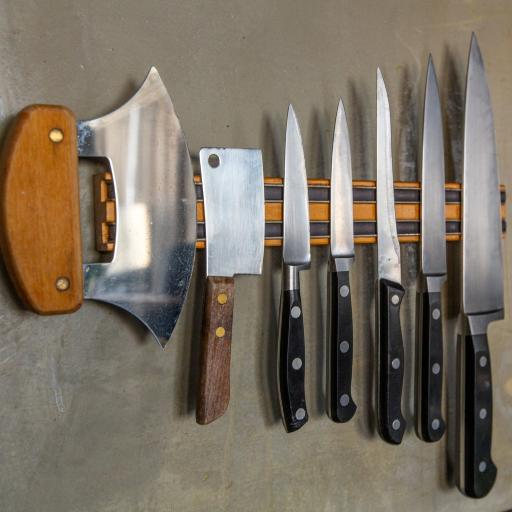knife: (265, 99, 315, 430)
